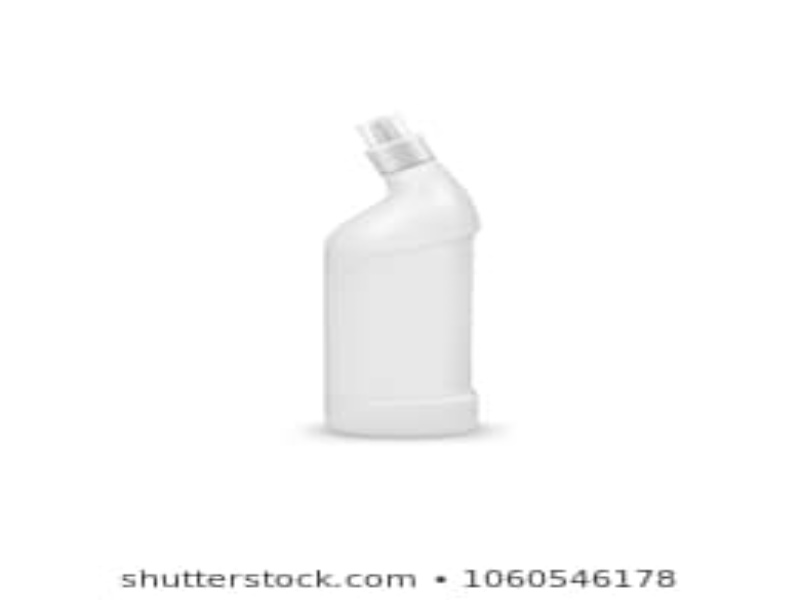detergent-bottle: (315, 115, 487, 439)
